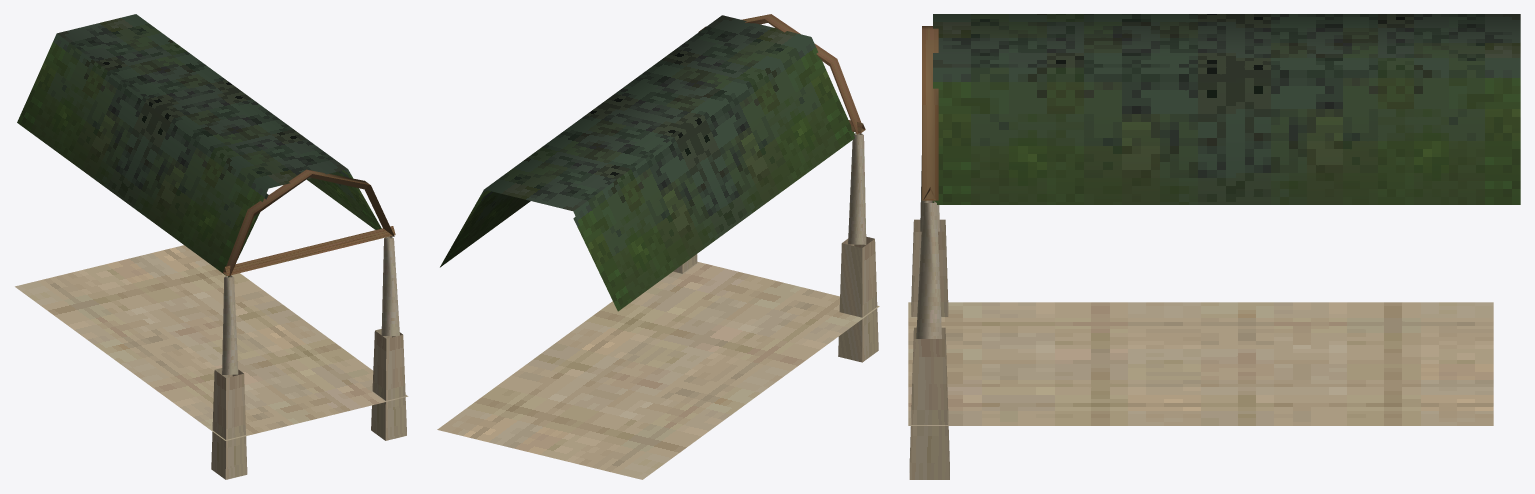
File: thm_nboo_imprv_arbor_long_s01_l2.fbx
3 views of the same model, side by side, from view 1: azimuth 30°, elevation 25°; view 2: azimuth 150°, elevation 25°; view 3: azimuth 270°, elevation 25° (orthographic). The views are drawn at different scales.
Parts seen in each view (by area): view 1: mesh_node; view 2: mesh_node; view 3: mesh_node.
Boxes of the visible parts, left/top/right/bottom form: mesh_node: left=15, top=14, right=408, bottom=479; mesh_node: left=437, top=14, right=879, bottom=479; mesh_node: left=908, top=14, right=1520, bottom=479.
Bounding box in the file's own units: 4 × 5.86 × 8.37.
